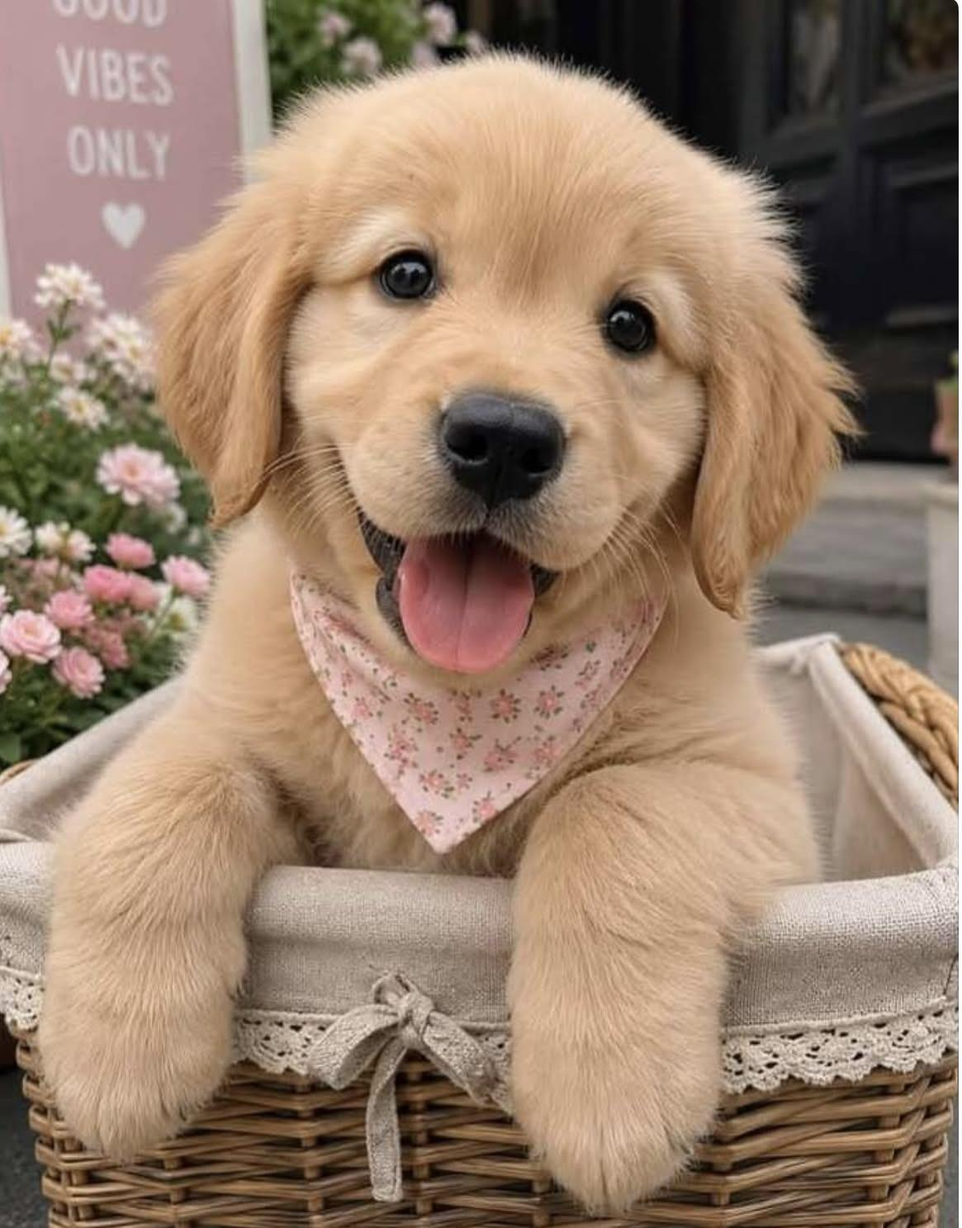puppy-dog: (37, 50, 862, 1214)
